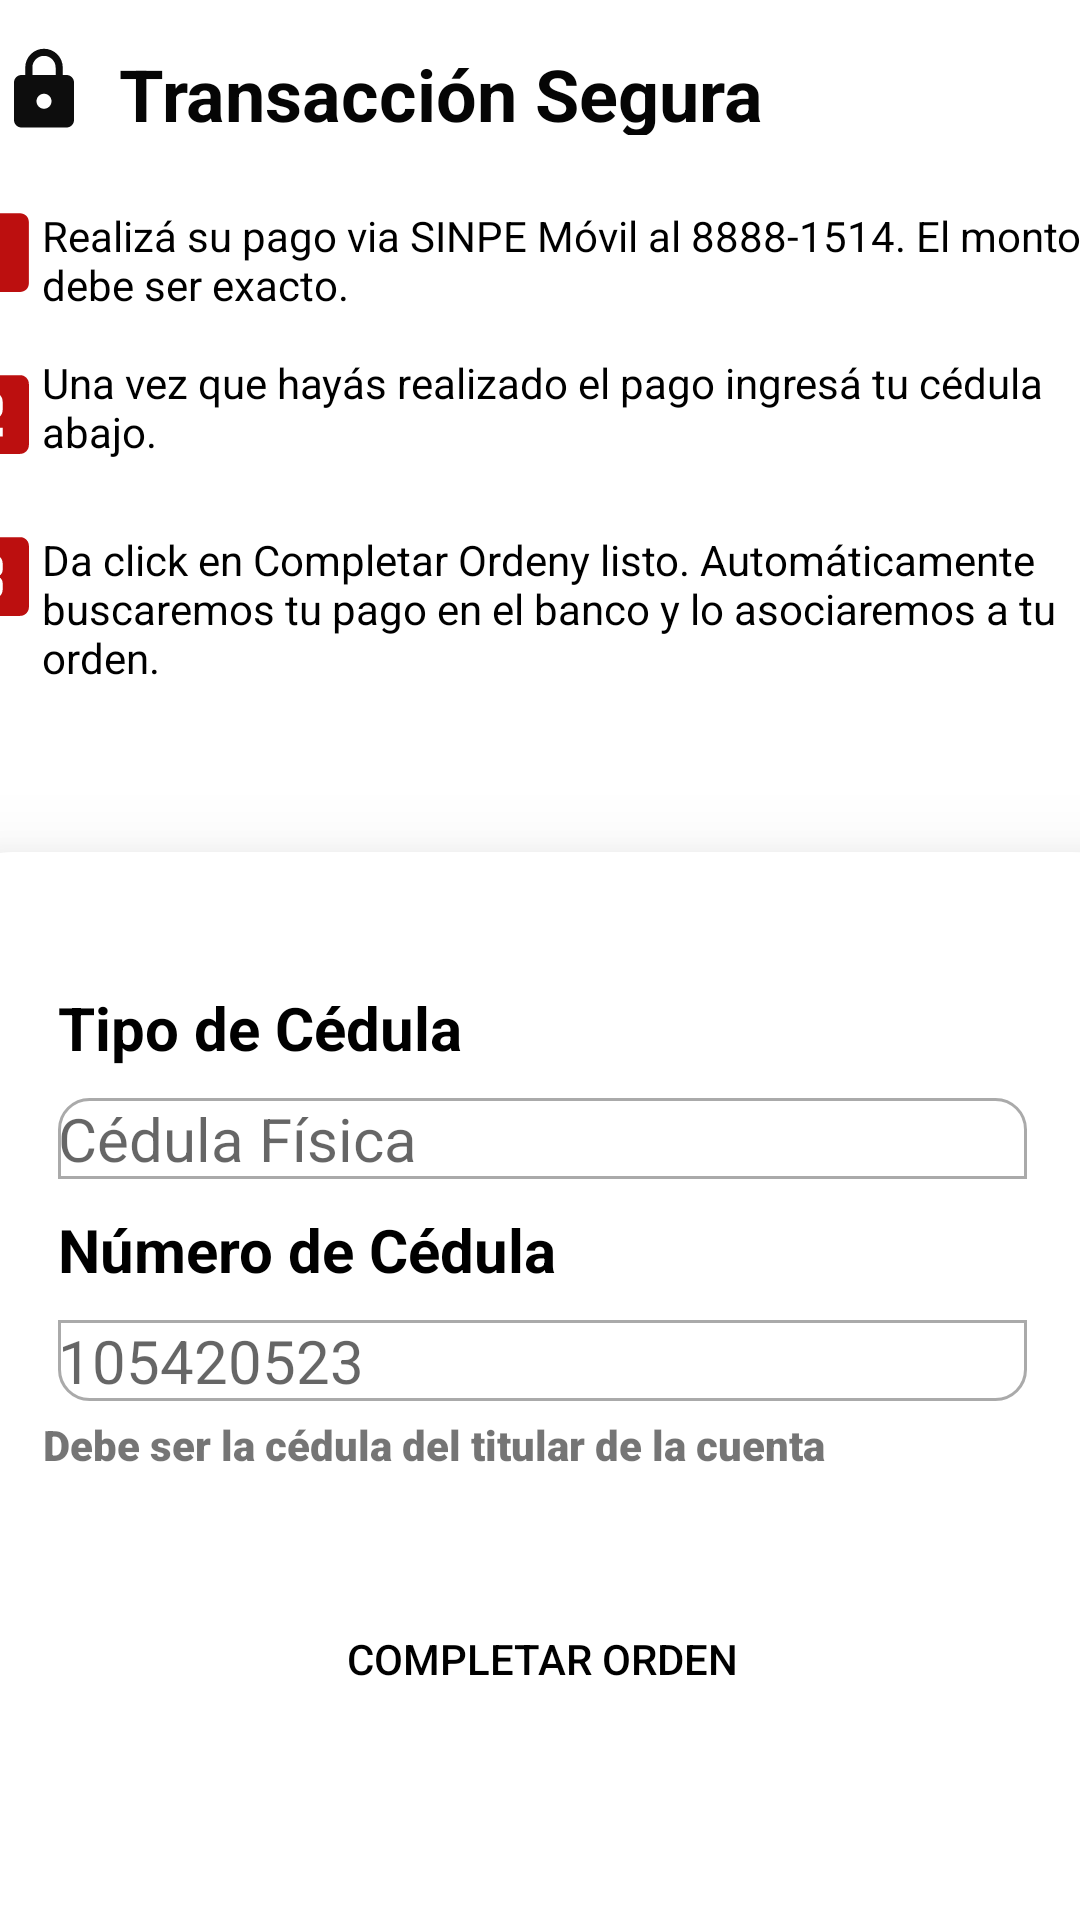

Screen size 1080px x 1920px. Icon name, then its center in pixels as (x,y):
lockb: (44,88)
